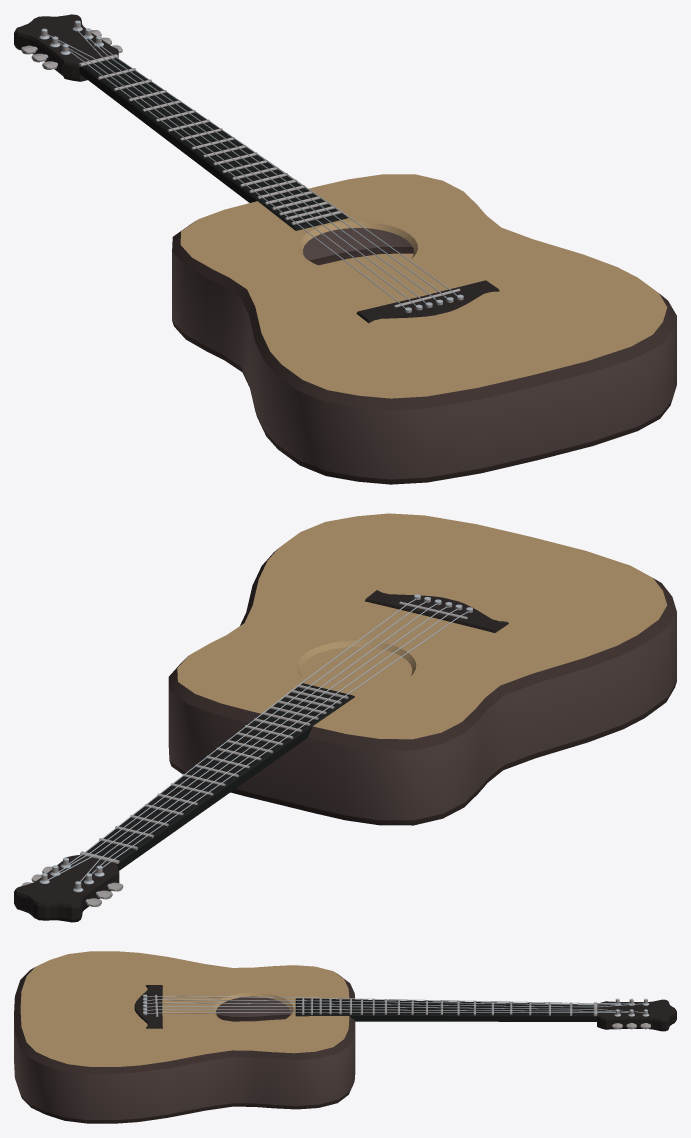
Rendered from Gitarre.fbx.
3 renders of one model, top to bottom at view 1: azimuth 30°, elevation 25°; view 2: azimuth 150°, elevation 25°; view 3: azimuth 270°, elevation 25°, orthographic. The views are drawn at different scales.
Parts seen in each view (by area): view 1: Gitarre; view 2: Gitarre; view 3: Gitarre.
Boxes of the visible parts, box(x1,y1,x2,y2) form: Gitarre: box(14, 14, 676, 484); Gitarre: box(14, 513, 676, 922); Gitarre: box(14, 951, 676, 1123).
Bounding box in the file's own units: 59.51 × 13.62 × 139.
